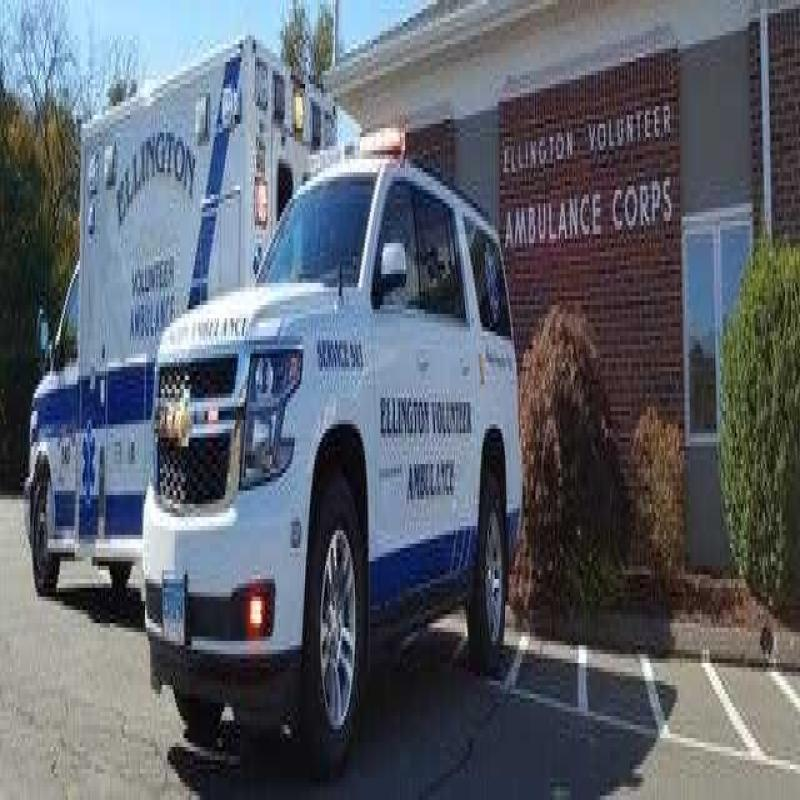AmbulanceSiren: (310, 64, 413, 183)
